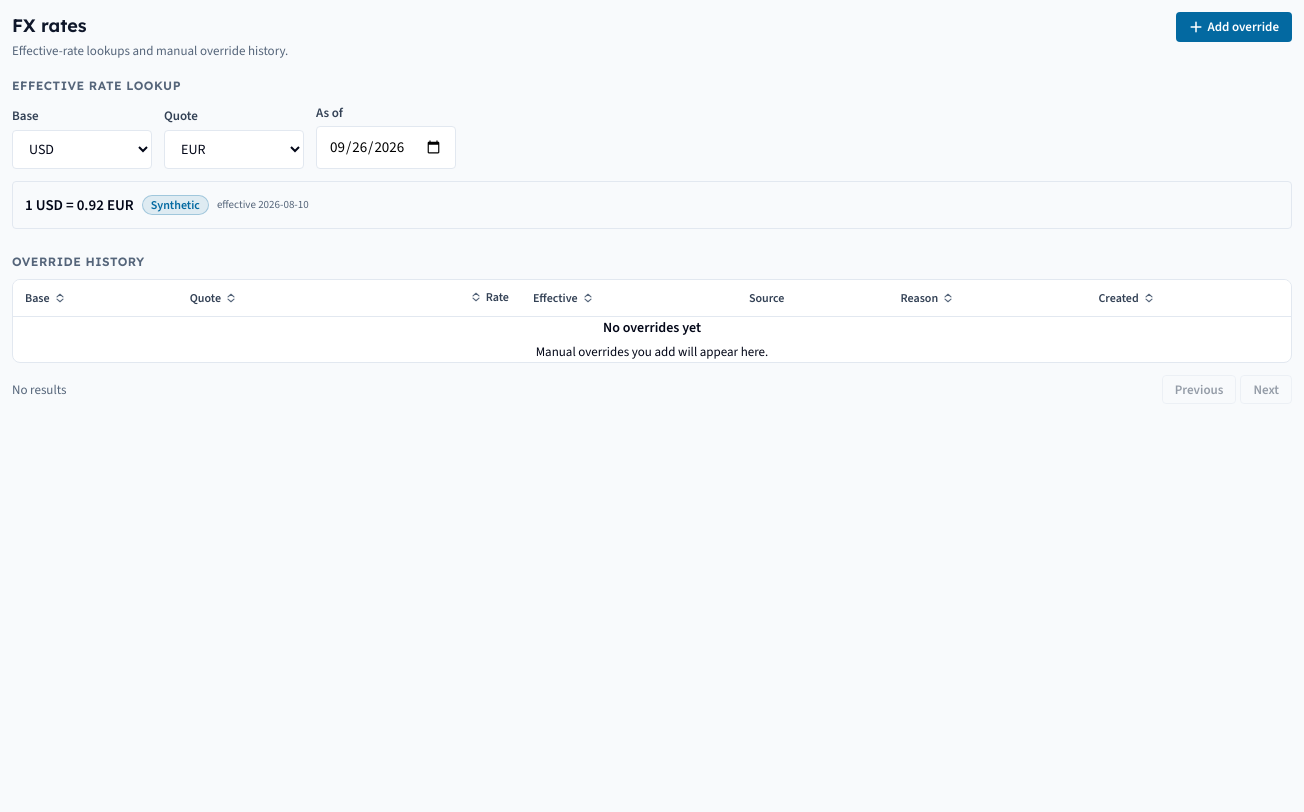
it: FxPanel › requires a non-blank reason before submitting a new override
Click the button "Add override" at (1234, 27), box [1176,12,1292,42]
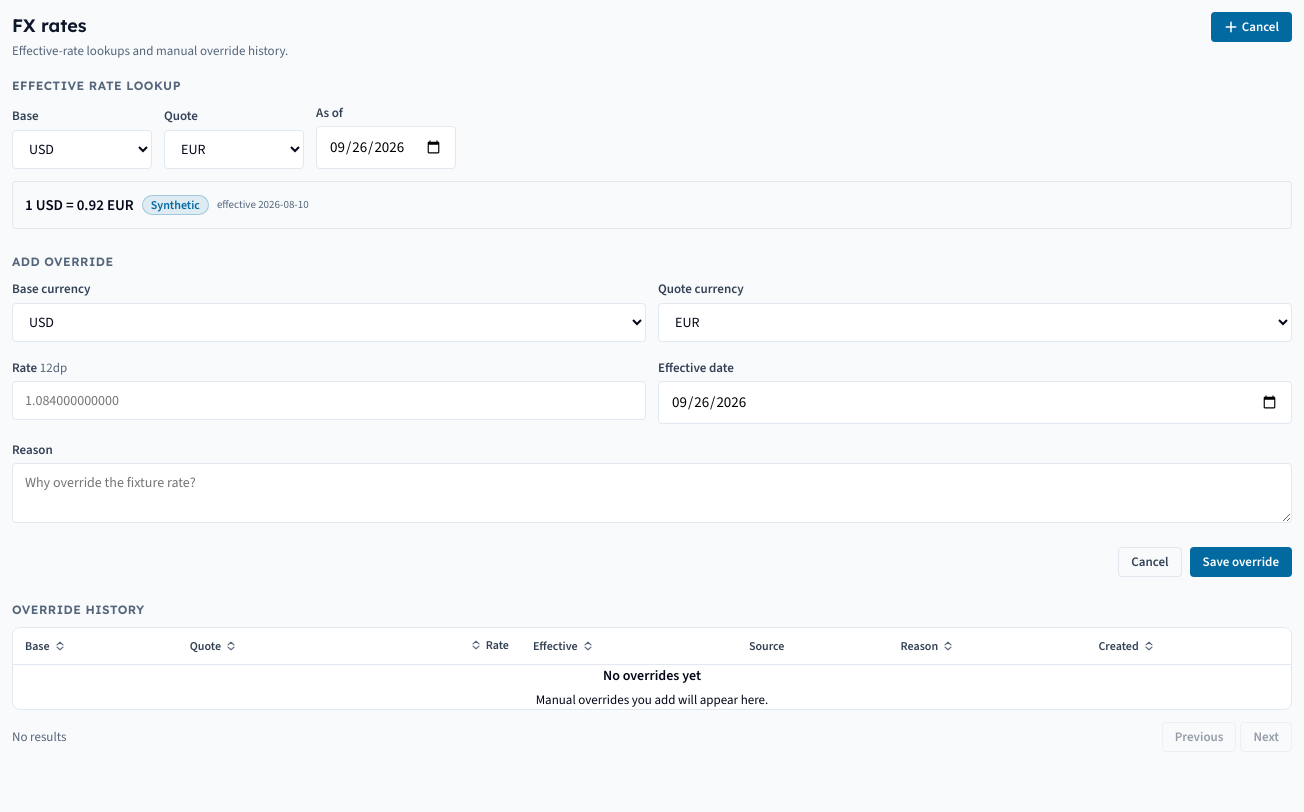
Type "0.930000000000" into the field labelled "Rate 12dp" at (329, 400), box [12,381,646,420]
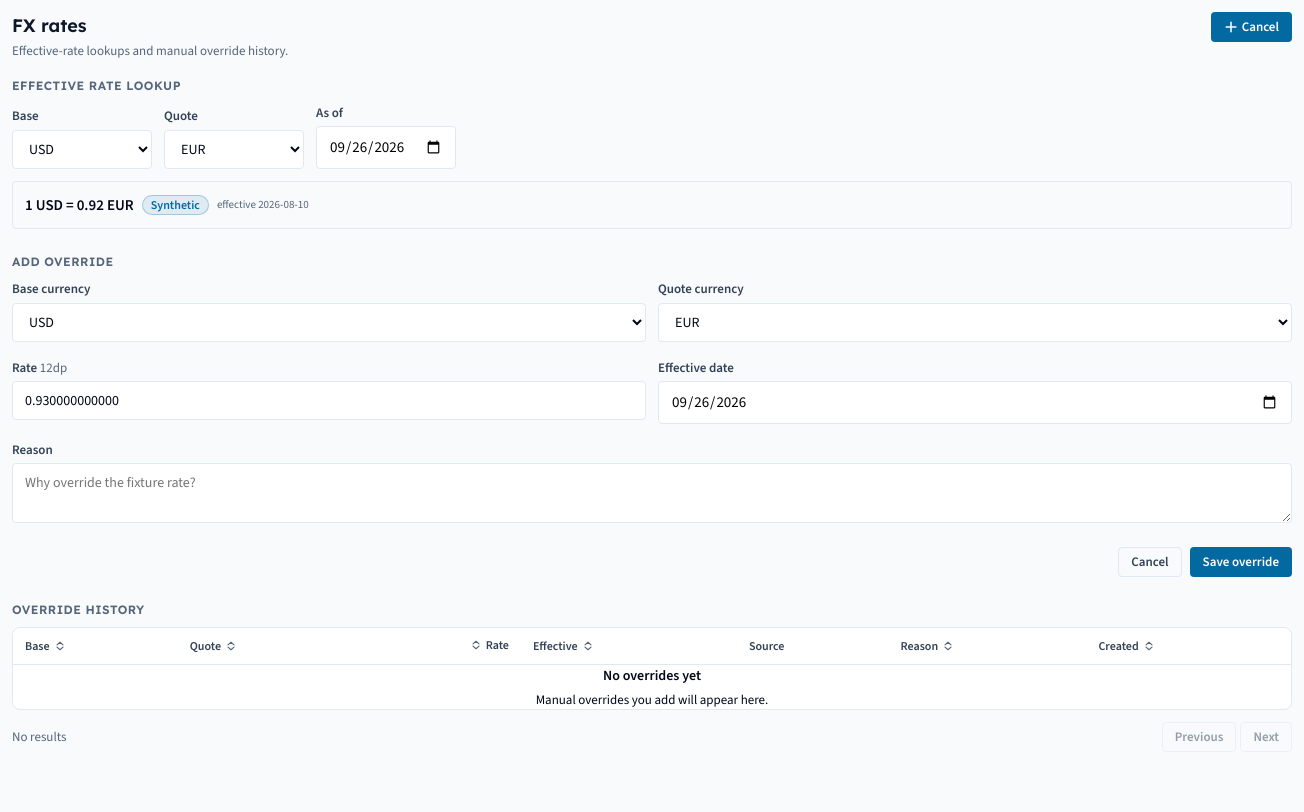
Click the button "Save override" at (1241, 562), box [1190,547,1292,576]
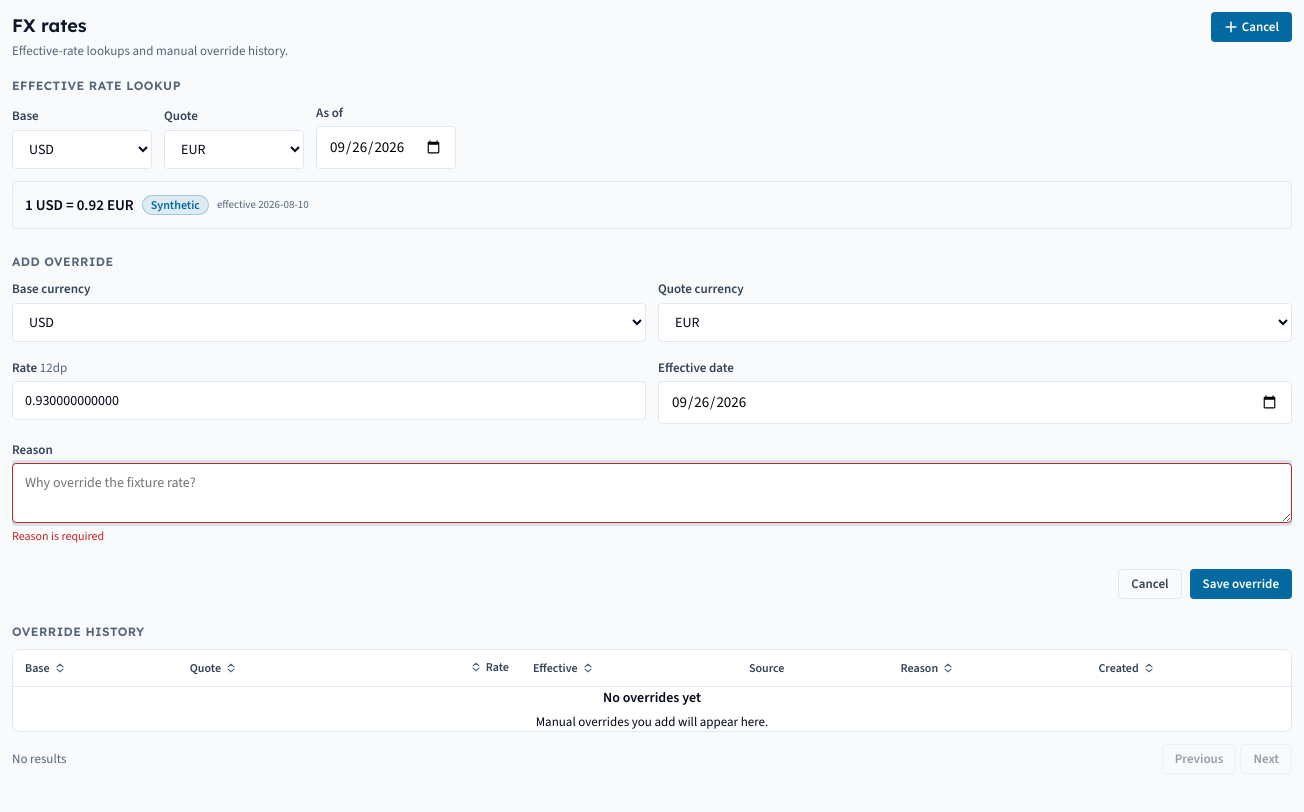
Check: the text "Reason is required" is shown, box [12,528,104,544]
